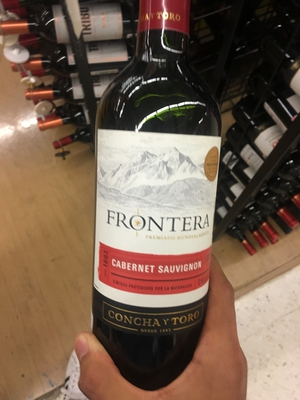frontera cabernet sauvignon: (84, 18, 229, 374)
